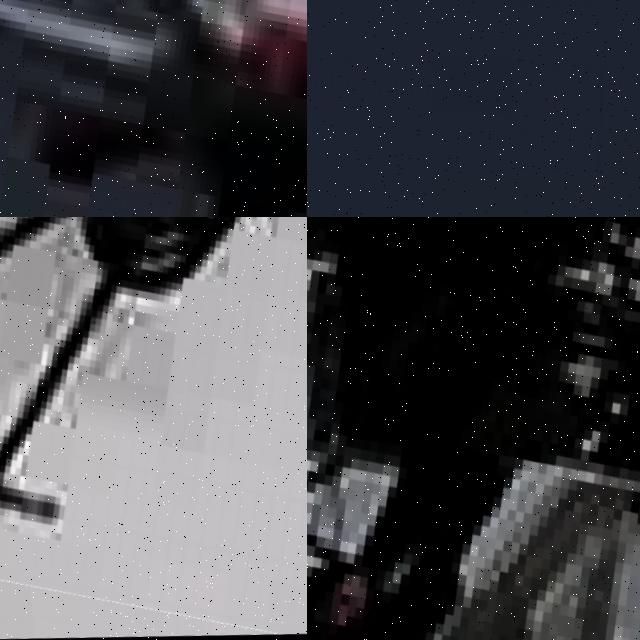drone: (307, 217, 640, 640), (0, 217, 307, 640), (0, 0, 307, 217)
